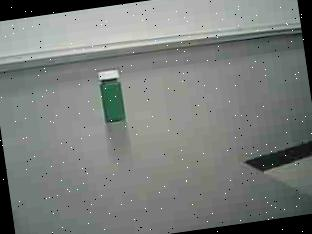Bottle C: (86, 60, 138, 133)
